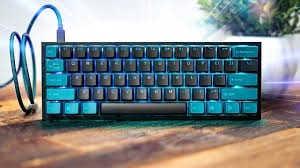keyboard: (35, 36, 265, 126)
